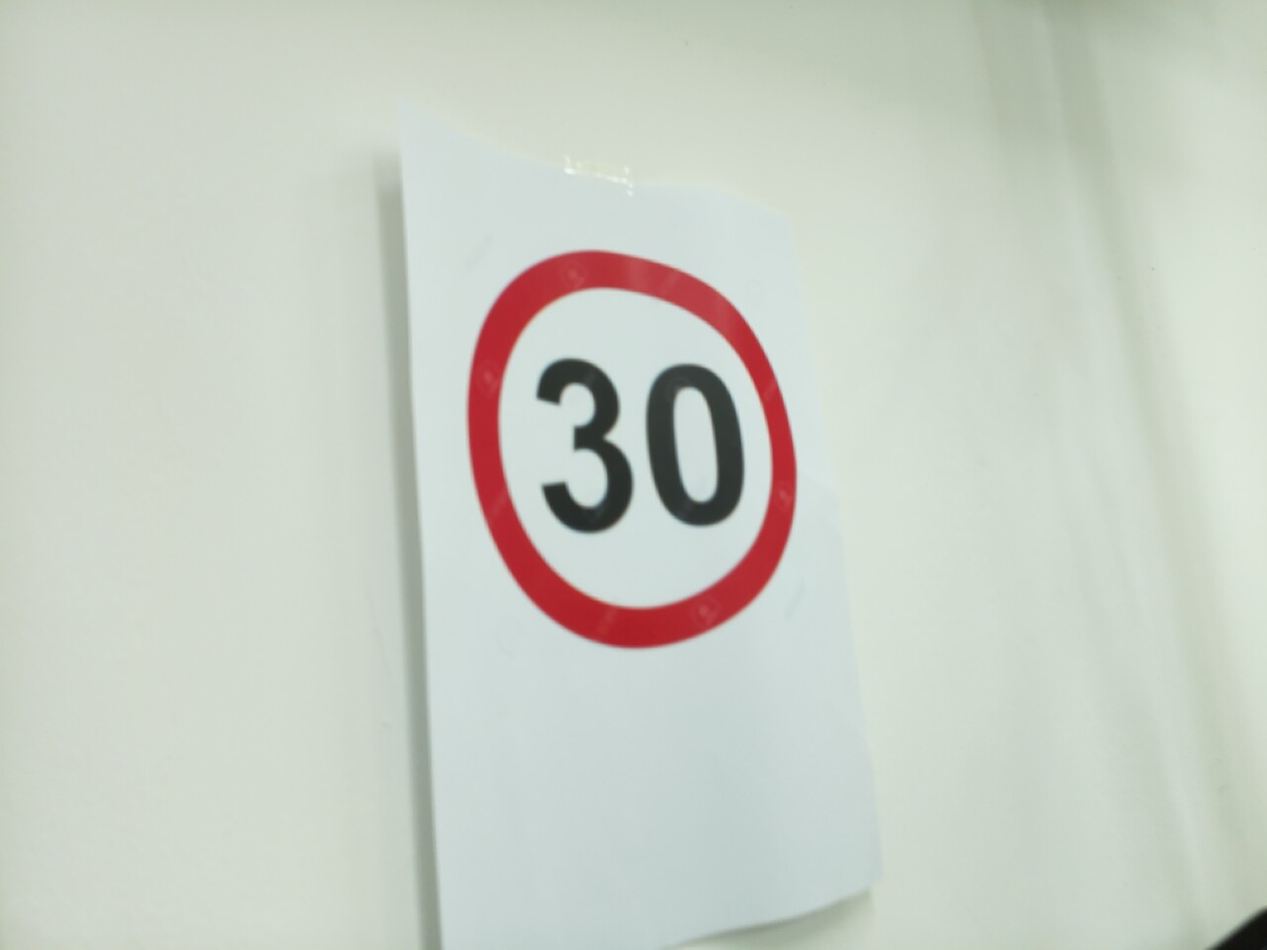speed_30: (457, 238, 807, 661)
